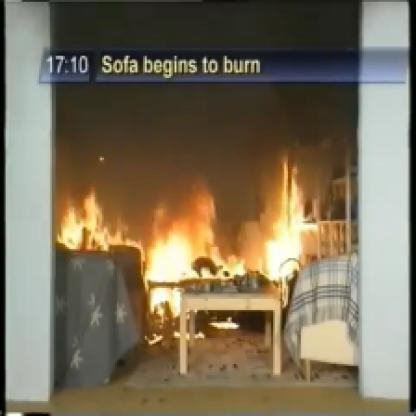fire: (236, 151, 335, 297), (141, 171, 236, 304), (145, 297, 244, 361), (43, 188, 126, 256)
